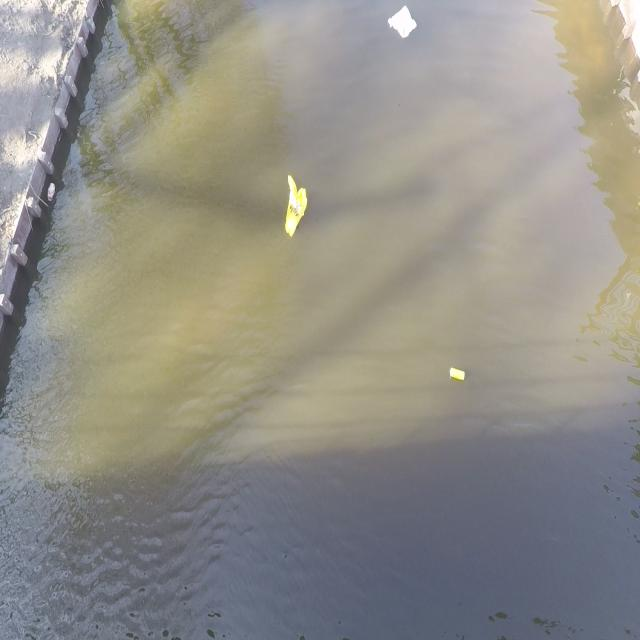Autre plastique: (384, 4, 420, 42)
Non plastique: (448, 361, 468, 388), (46, 181, 60, 206)
Sac plastique: (279, 170, 313, 241)
